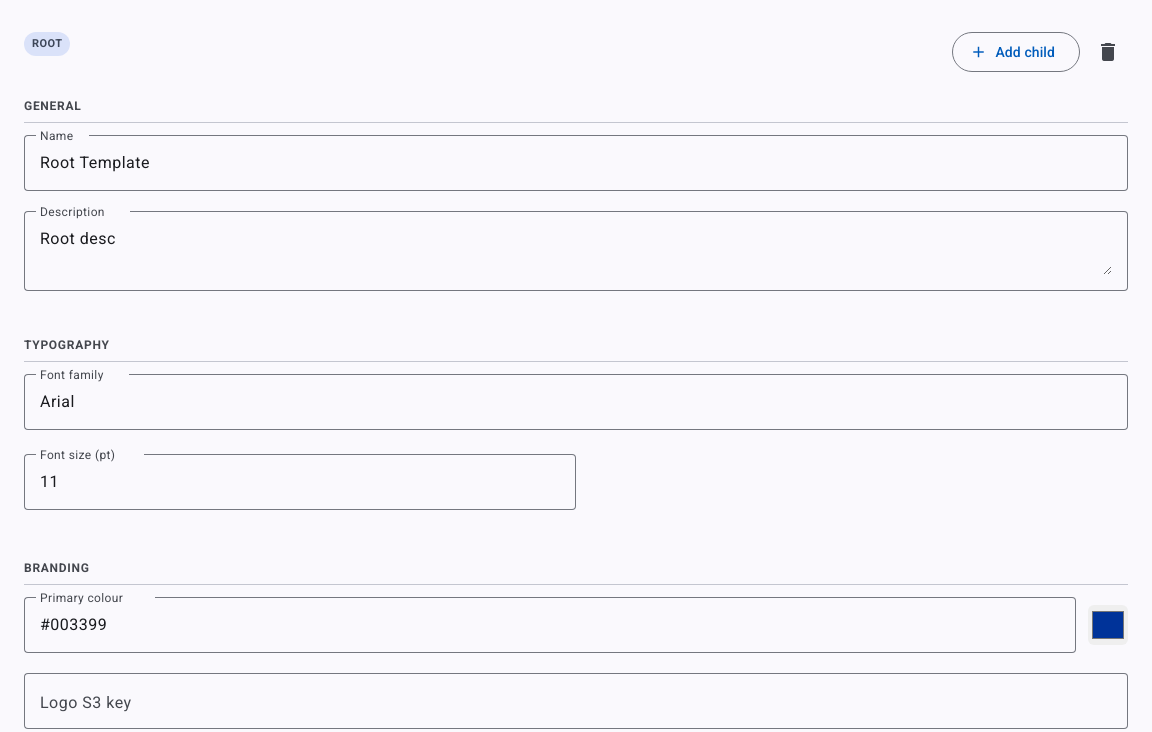
Scenario: TemplateNodeDetailComponent › shows save error message when update fails
Replace the text in the field named "name" with "Changed" at (576, 163), box [40,151,1112,175]
(page scrolled)
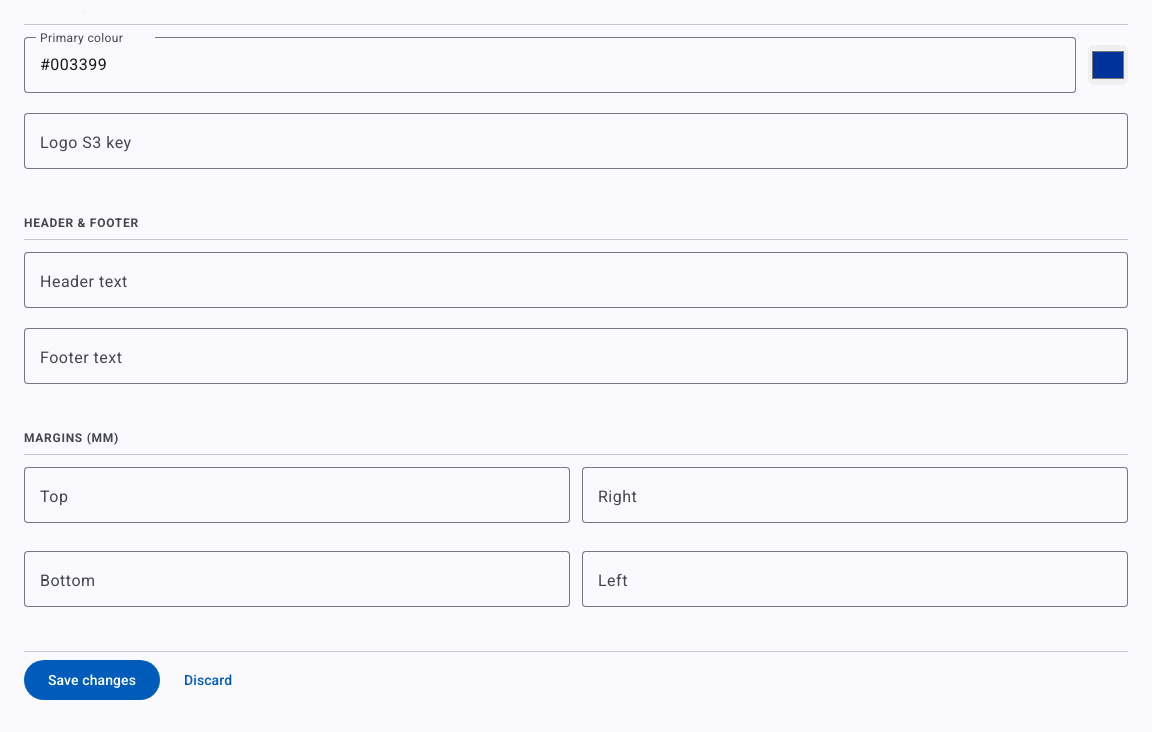
Click the submit button.
click(92, 680)  # box [24,660,160,700]
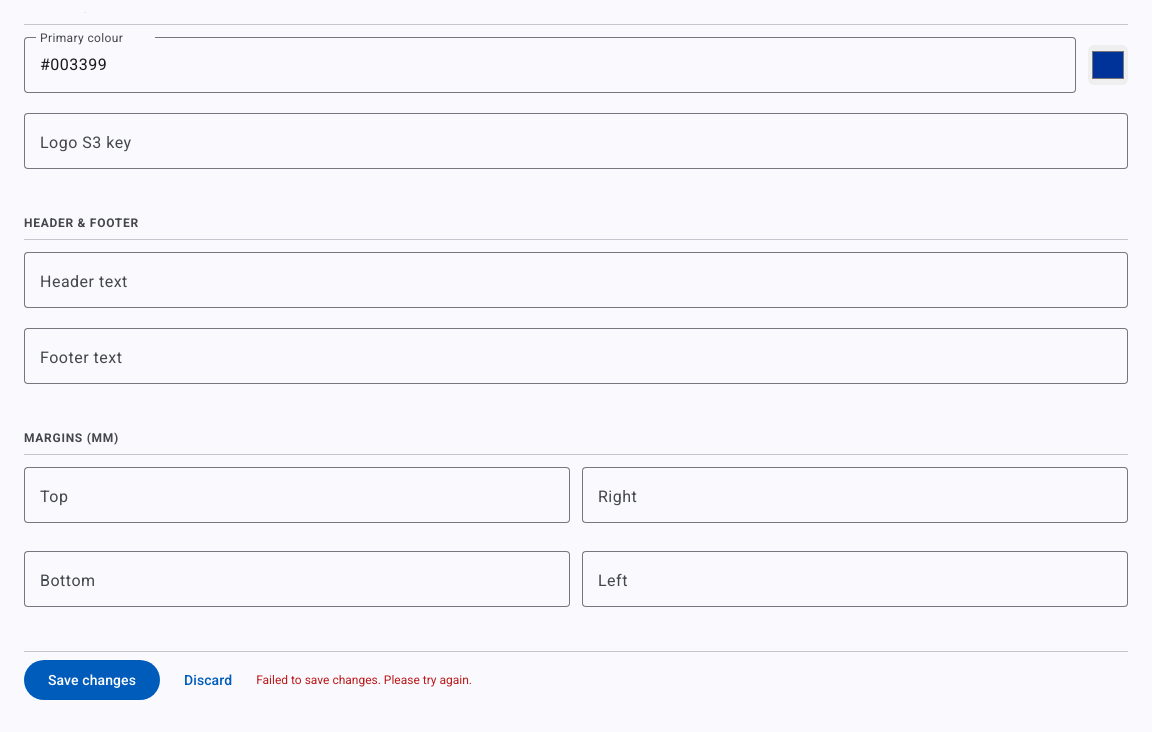
Check: the text "Failed to save changes. Please try again." is shown, box [256,670,472,690]
